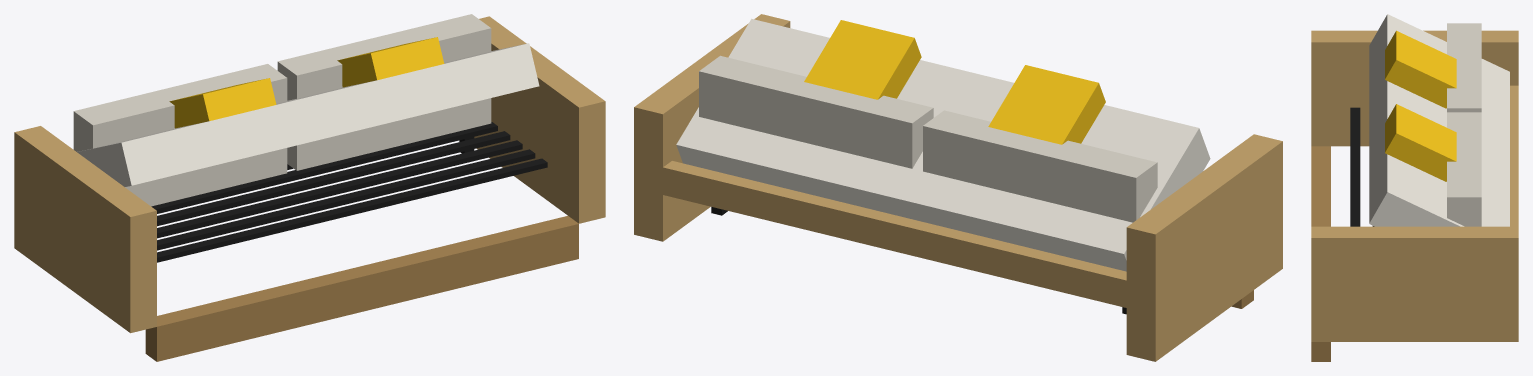
Rendered from lund-sofa.glb.
3 views of the same model, side by side, from view 1: azimuth 30°, elevation 25°; view 2: azimuth 150°, elevation 25°; view 3: azimuth 270°, elevation 25° (orthographic). The views are drawn at different scales.
Visible parts, largest first — view 1: Lund3SeaterSofaBed; view 2: Lund3SeaterSofaBed; view 3: Lund3SeaterSofaBed.
Boxes of the visible parts, <box> form: Lund3SeaterSofaBed: <box>14,14,605,361</box>; Lund3SeaterSofaBed: <box>634,14,1282,361</box>; Lund3SeaterSofaBed: <box>1311,14,1518,361</box>.
Size of the model in its own units: 1.98 by 0.8369 by 0.838.
